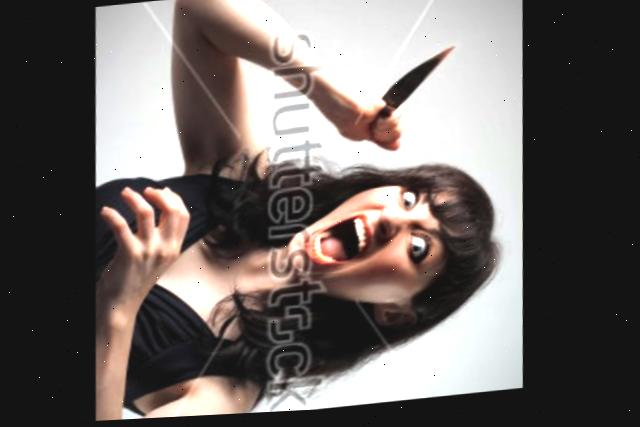pocket-knife: (360, 40, 469, 158)
